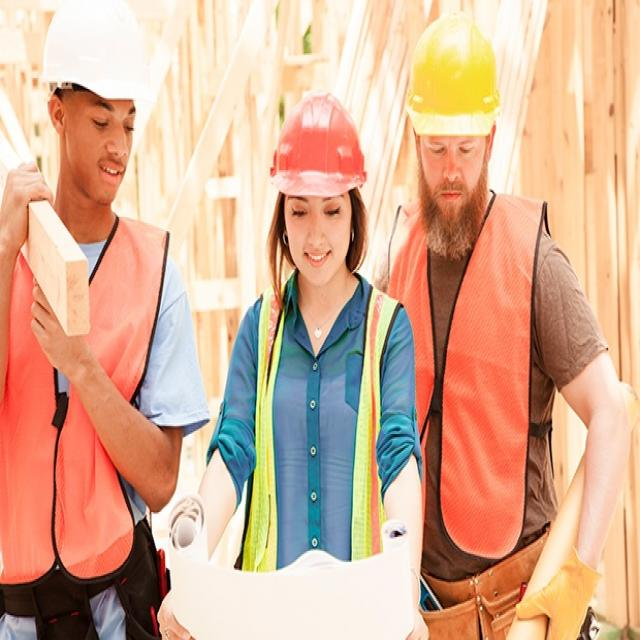Reflective-Jacket: (388, 189, 564, 560), (4, 200, 170, 580), (237, 278, 403, 571)
Safety-Helmet: (402, 11, 504, 142), (264, 86, 373, 204), (36, 0, 156, 106)
